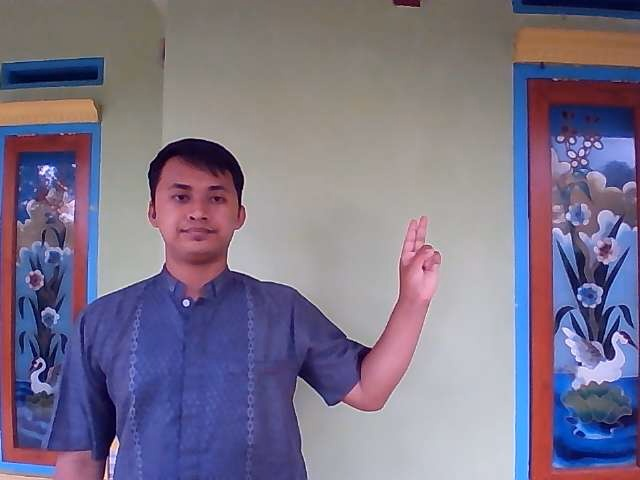U: (395, 213, 444, 312)
